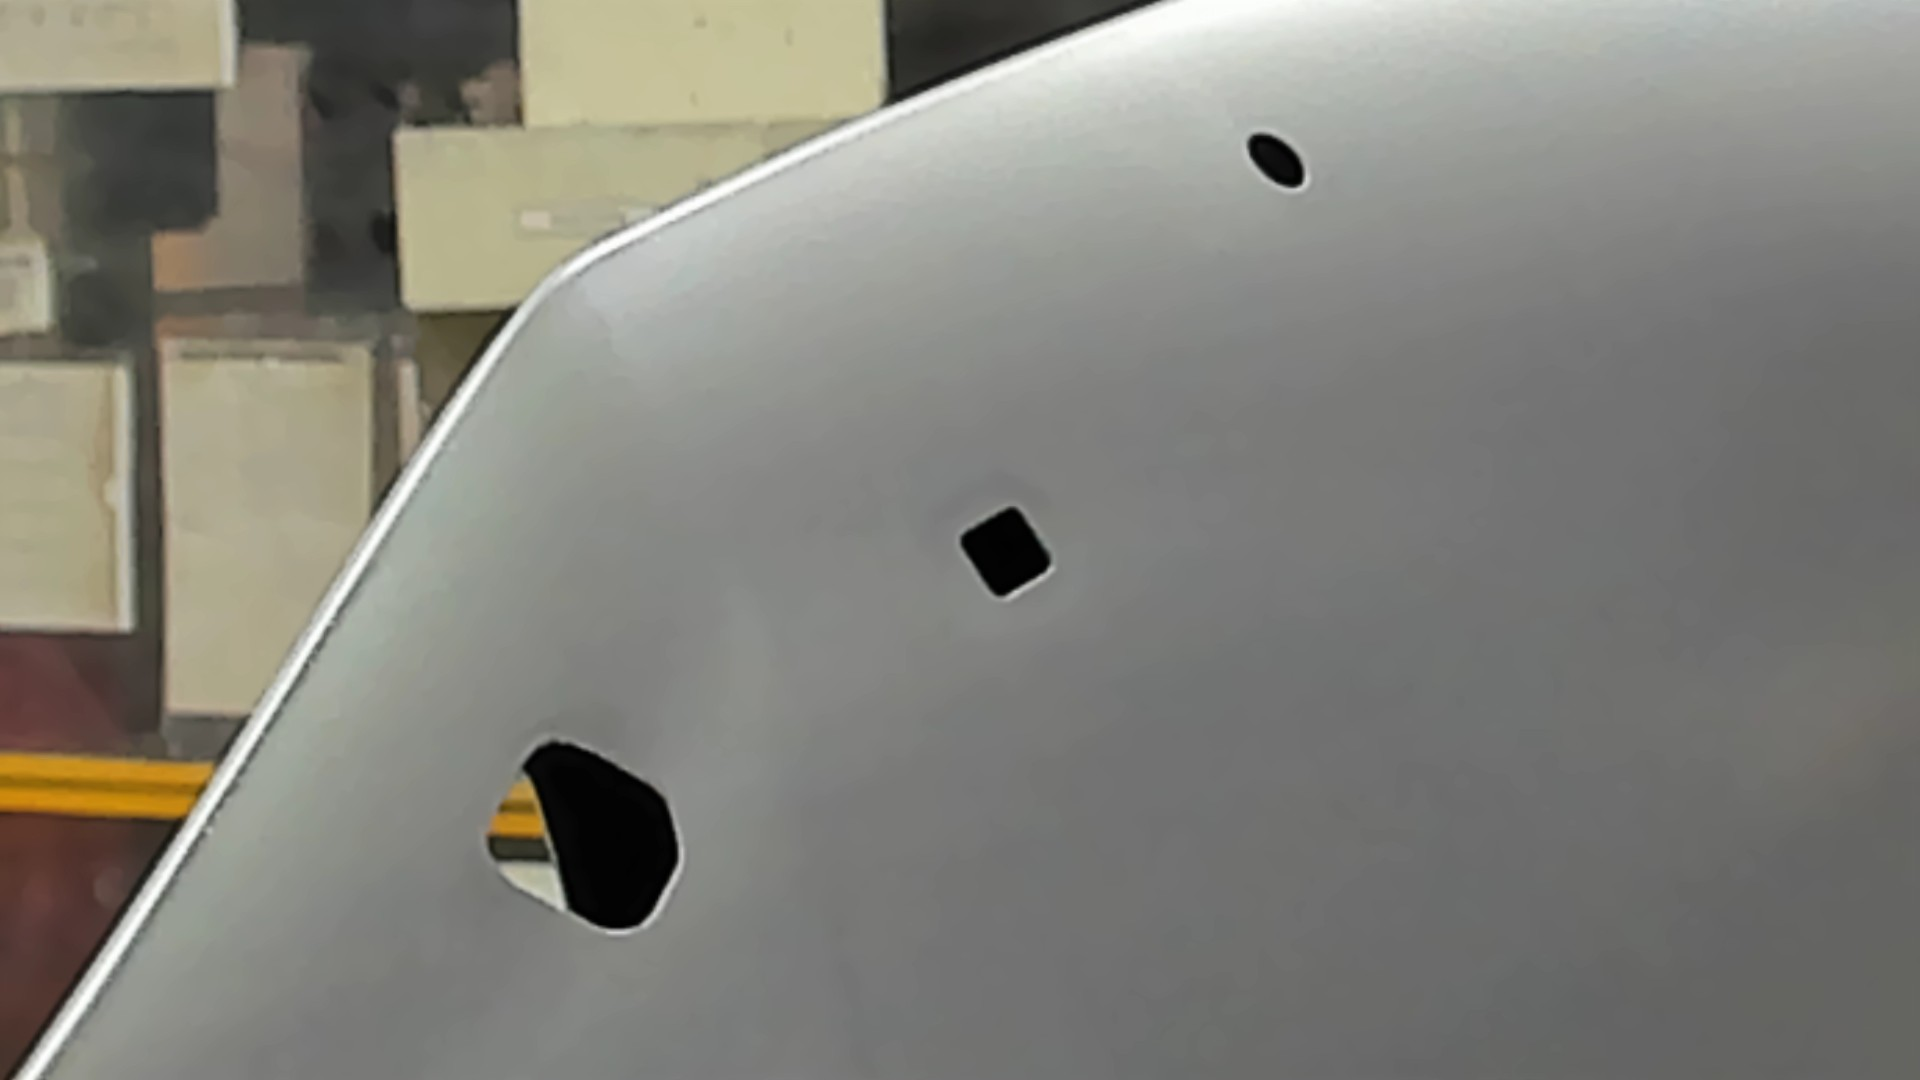chico: (1240, 127, 1313, 195)
grande: (477, 732, 691, 942)
mediano: (951, 498, 1060, 604)
